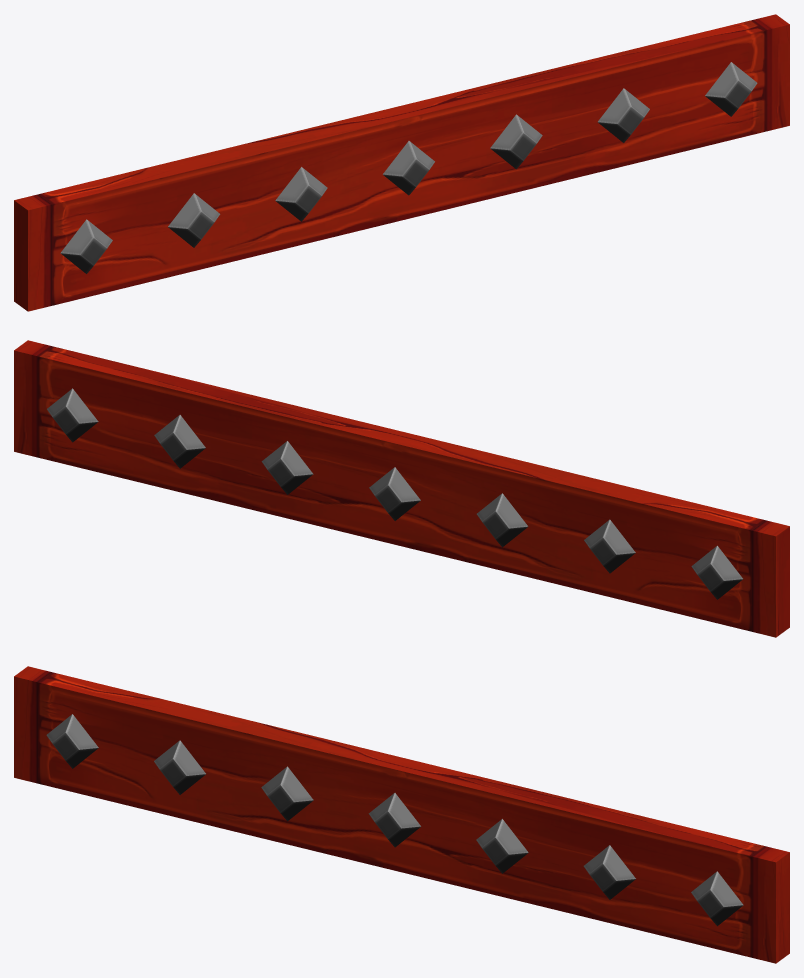
Rendered from fence_rad_04.fbx.
3 views of the same model, one above another, from view 1: azimuth 30°, elevation 25°; view 2: azimuth 150°, elevation 25°; view 3: azimuth 330°, elevation 25° (orthographic).
Visible parts, largest first — view 1: fence_rad_04; view 2: fence_rad_04; view 3: fence_rad_04.
Boxes of the visible parts, x1,y1,x2,y2 form: fence_rad_04: (14, 14, 789, 311); fence_rad_04: (14, 340, 789, 637); fence_rad_04: (14, 666, 789, 963).
Size of the model in its own units: 315 by 40 by 20.
